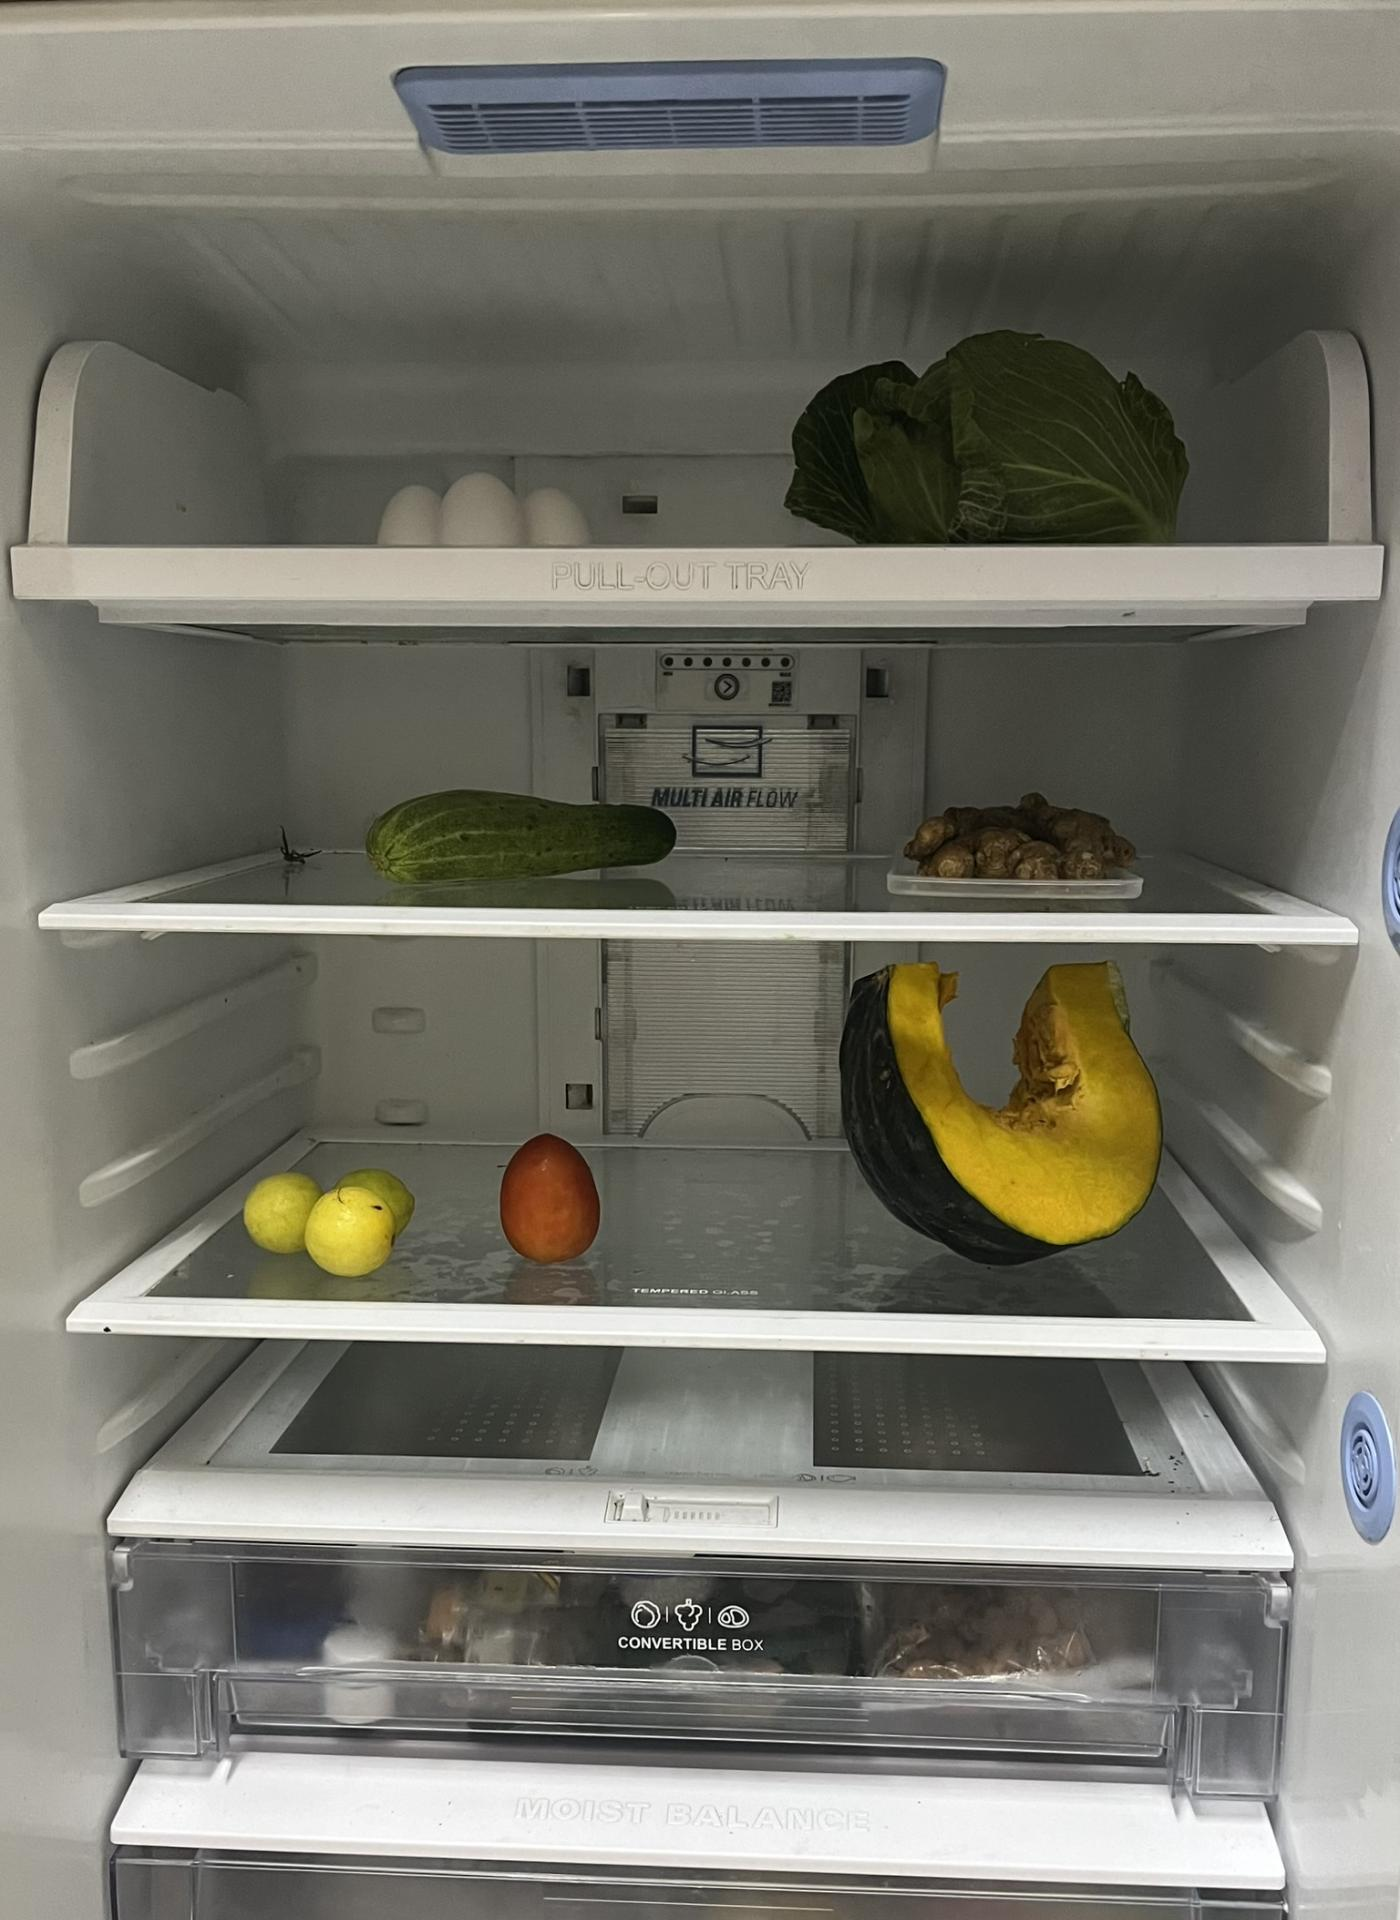cabbage: (786, 325, 1212, 531)
cucumber: (385, 789, 683, 874)
egg: (376, 470, 604, 543)
ginger: (921, 803, 1139, 868)
lemon: (243, 1169, 409, 1275)
pumpkin: (830, 959, 1166, 1266)
tomato: (502, 1127, 604, 1255)
